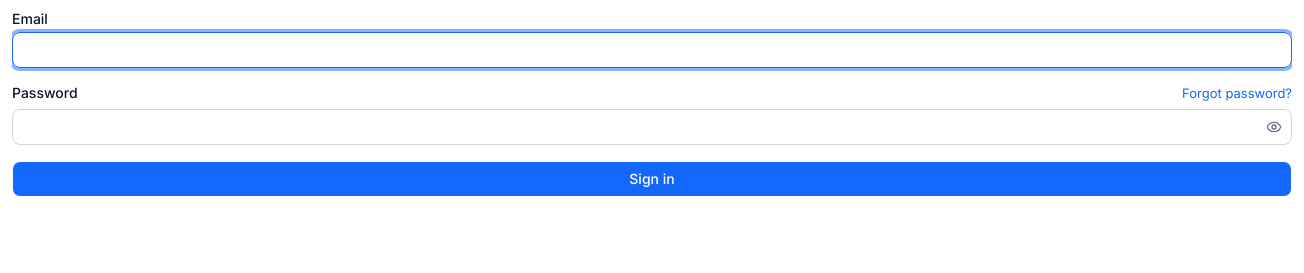
LoginForm › shows the API's message when the credentials are wrong
The width and height of the screenshot is (1304, 273).
Type "maya@northstarcoffee.co" into the field labelled "Email" at (652, 50), box left=12, top=32, right=1292, bottom=68
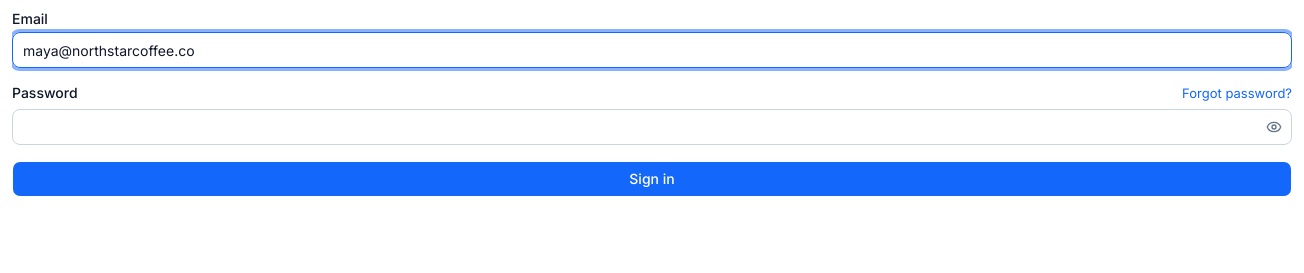
Type "wrong password" into the password field labelled "Password" at (652, 127), box left=12, top=109, right=1292, bottom=145
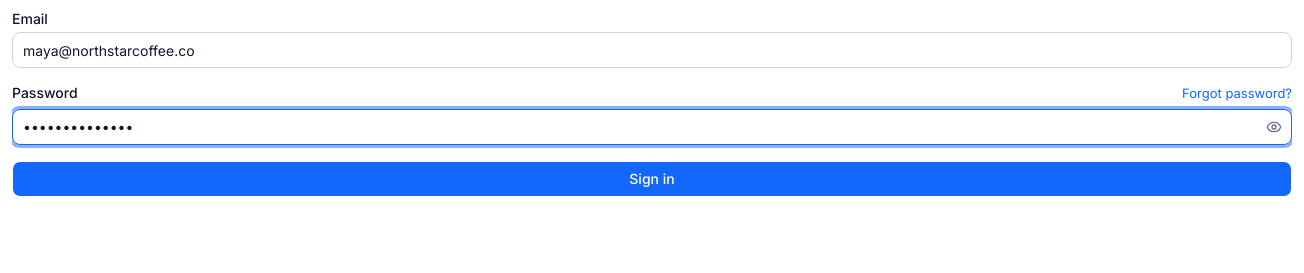
Click the button "Sign in" at (652, 179), box left=12, top=161, right=1292, bottom=197
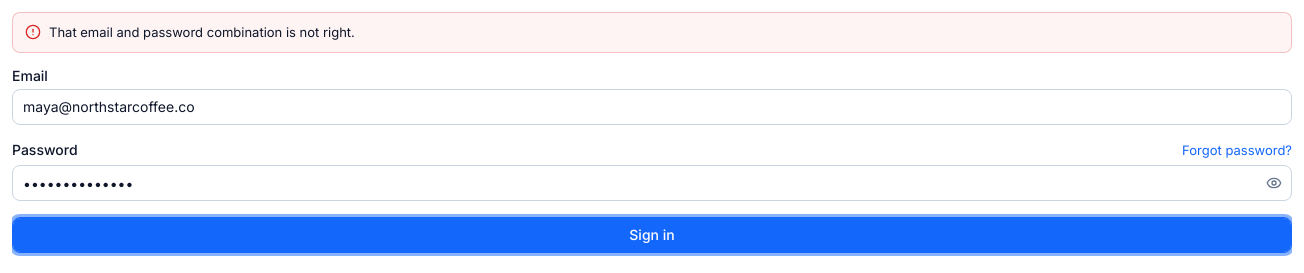
expect the message reads "That email and password combination is not right.": met, box left=49, top=24, right=355, bottom=40
